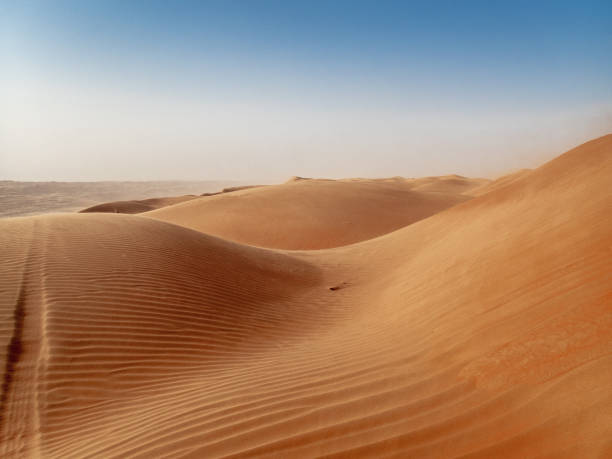vehicle_track: (0, 213, 52, 458)
